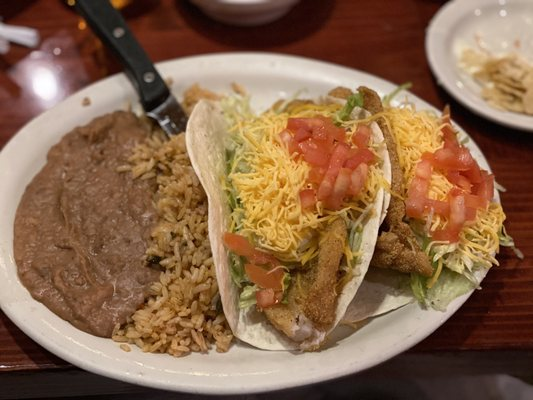sandwich: (71, 0, 188, 137)
soup: (185, 86, 395, 354), (371, 102, 500, 310)
sushi: (424, 0, 533, 131), (182, 0, 306, 28)
